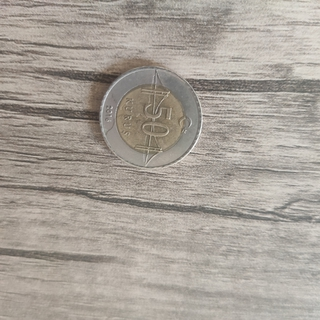50KURUS: (96, 64, 203, 170)
